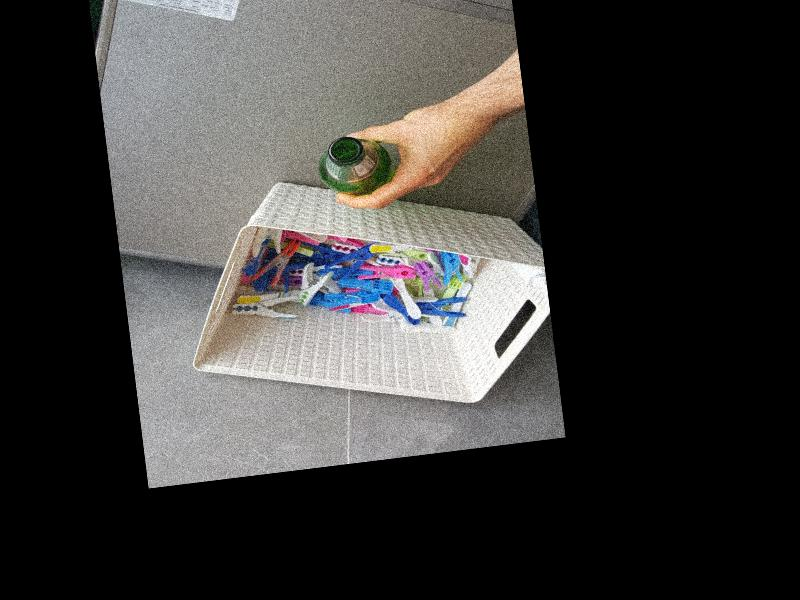Beer: (314, 130, 396, 199)
